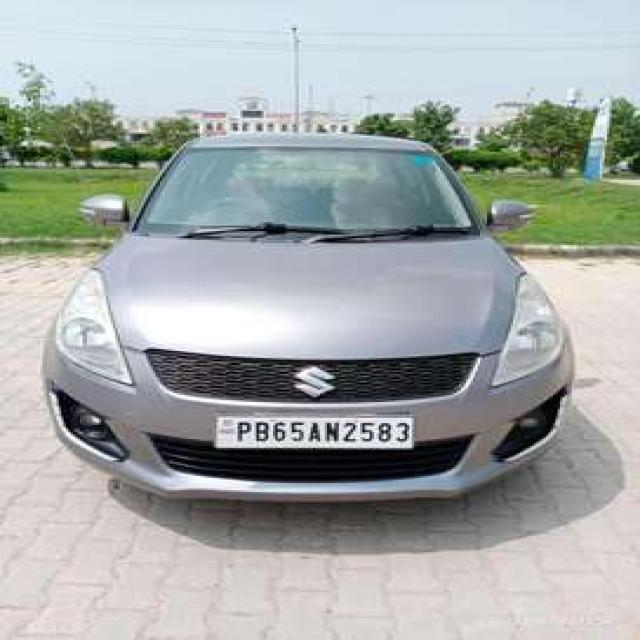Plate: (213, 414, 413, 447)
